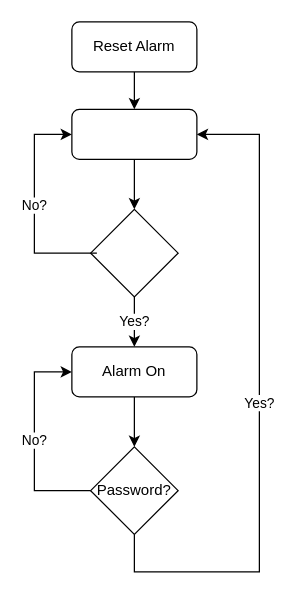
This 295x604 diagram has some shape labels left out. Here are the shapes that lost their labels. From the top down, the centre of each, then its label:
At point (134, 133): "Alarm Off".
At point (133, 252): "Motion?".
